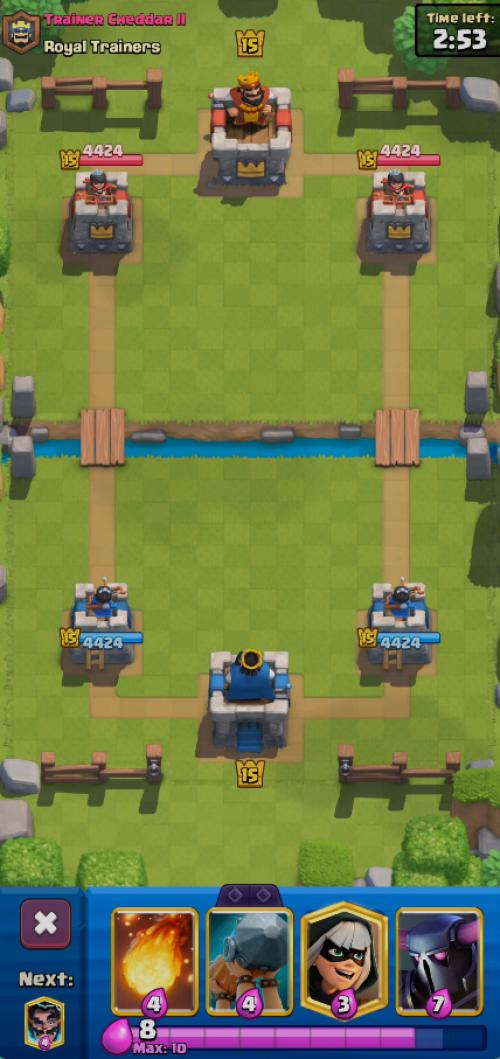Enemy-KingTower: (211, 73, 291, 189)
Enemy-PrincessTower: (69, 169, 132, 254), (367, 170, 430, 254)
